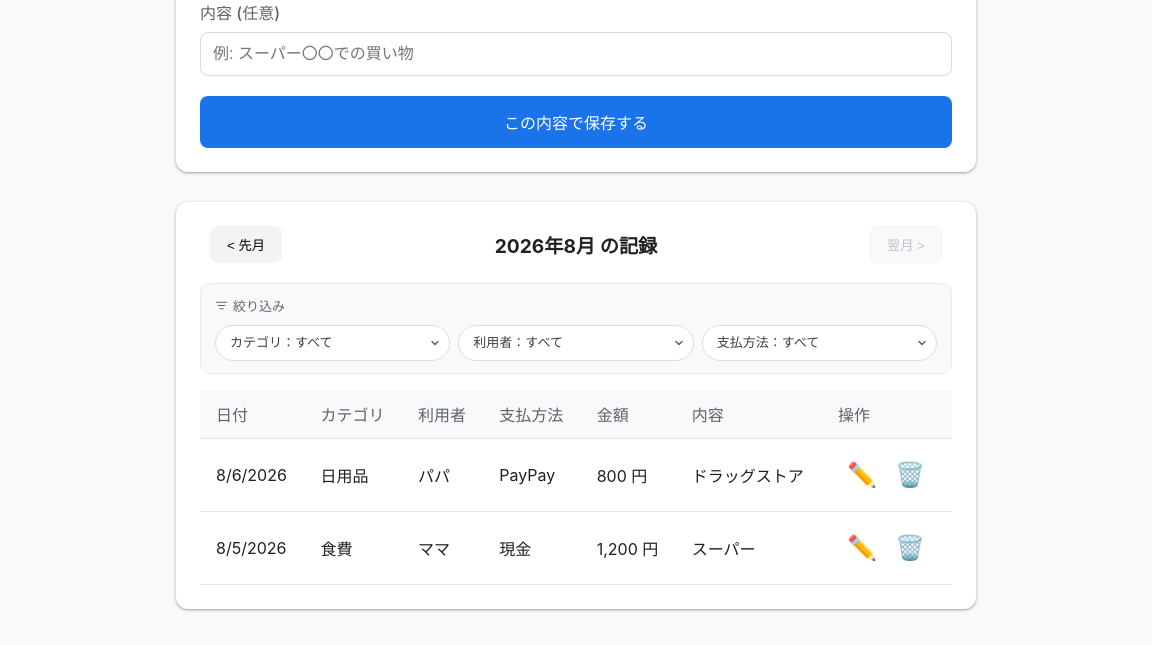
選び直して外すと、その条件だけ解除される
(page scrolled)
Check: the text "スーパー" is shown, box top-left (676, 511), bottom-right (822, 584)
Click the button "カテゴリ：すべて": (333, 343) top-left (215, 325), bottom-right (450, 361)
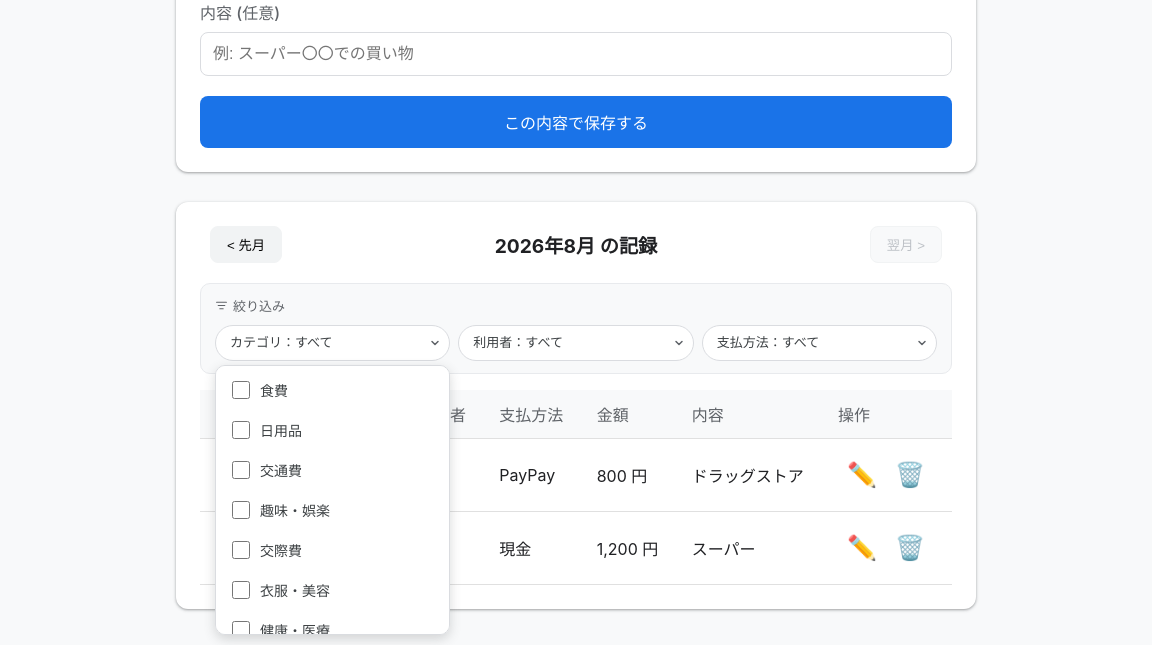
Click the checkbox labelled "食費": (241, 390) top-left (232, 381), bottom-right (250, 399)
(page scrolled)
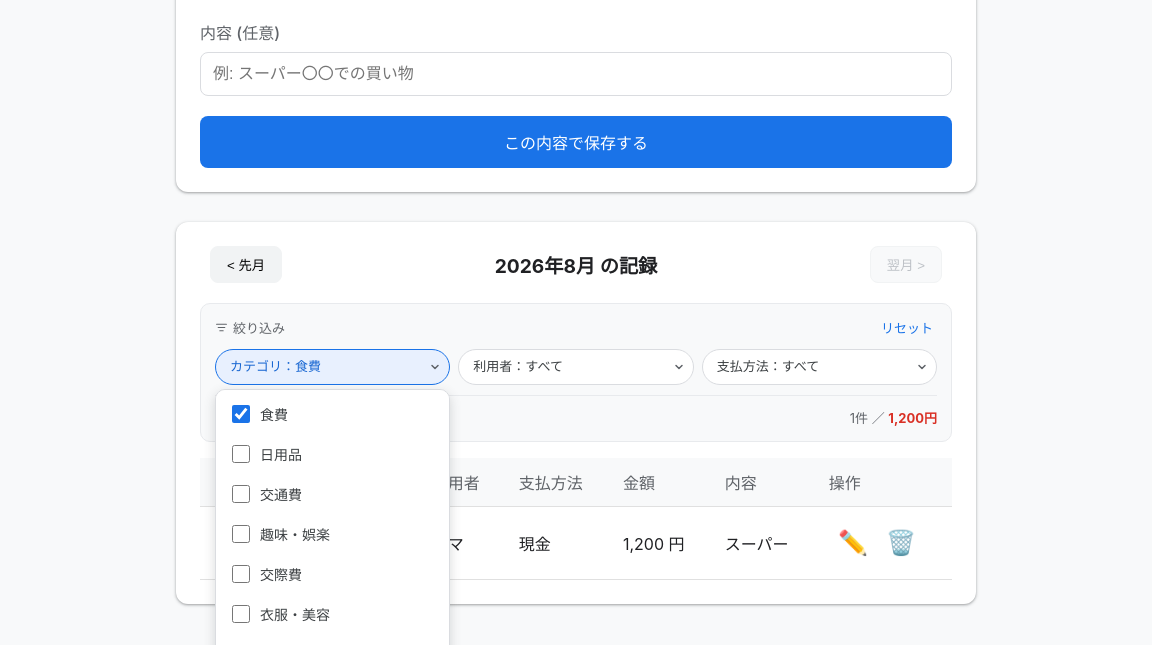
Click the checkbox labelled "食費": (241, 414) top-left (232, 405), bottom-right (250, 423)
(page scrolled)
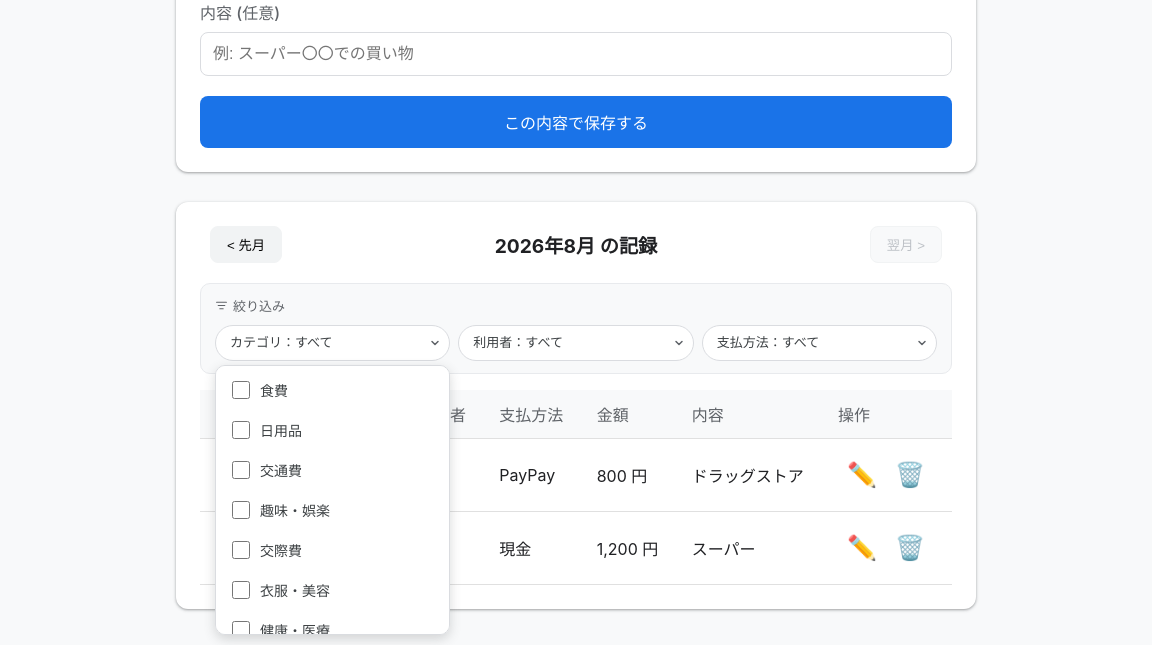
Check: the text "スーパー" is shown, box top-left (676, 511), bottom-right (822, 584)
Check: the text "ドラッグストア" is shown, box top-left (676, 438), bottom-right (822, 511)
